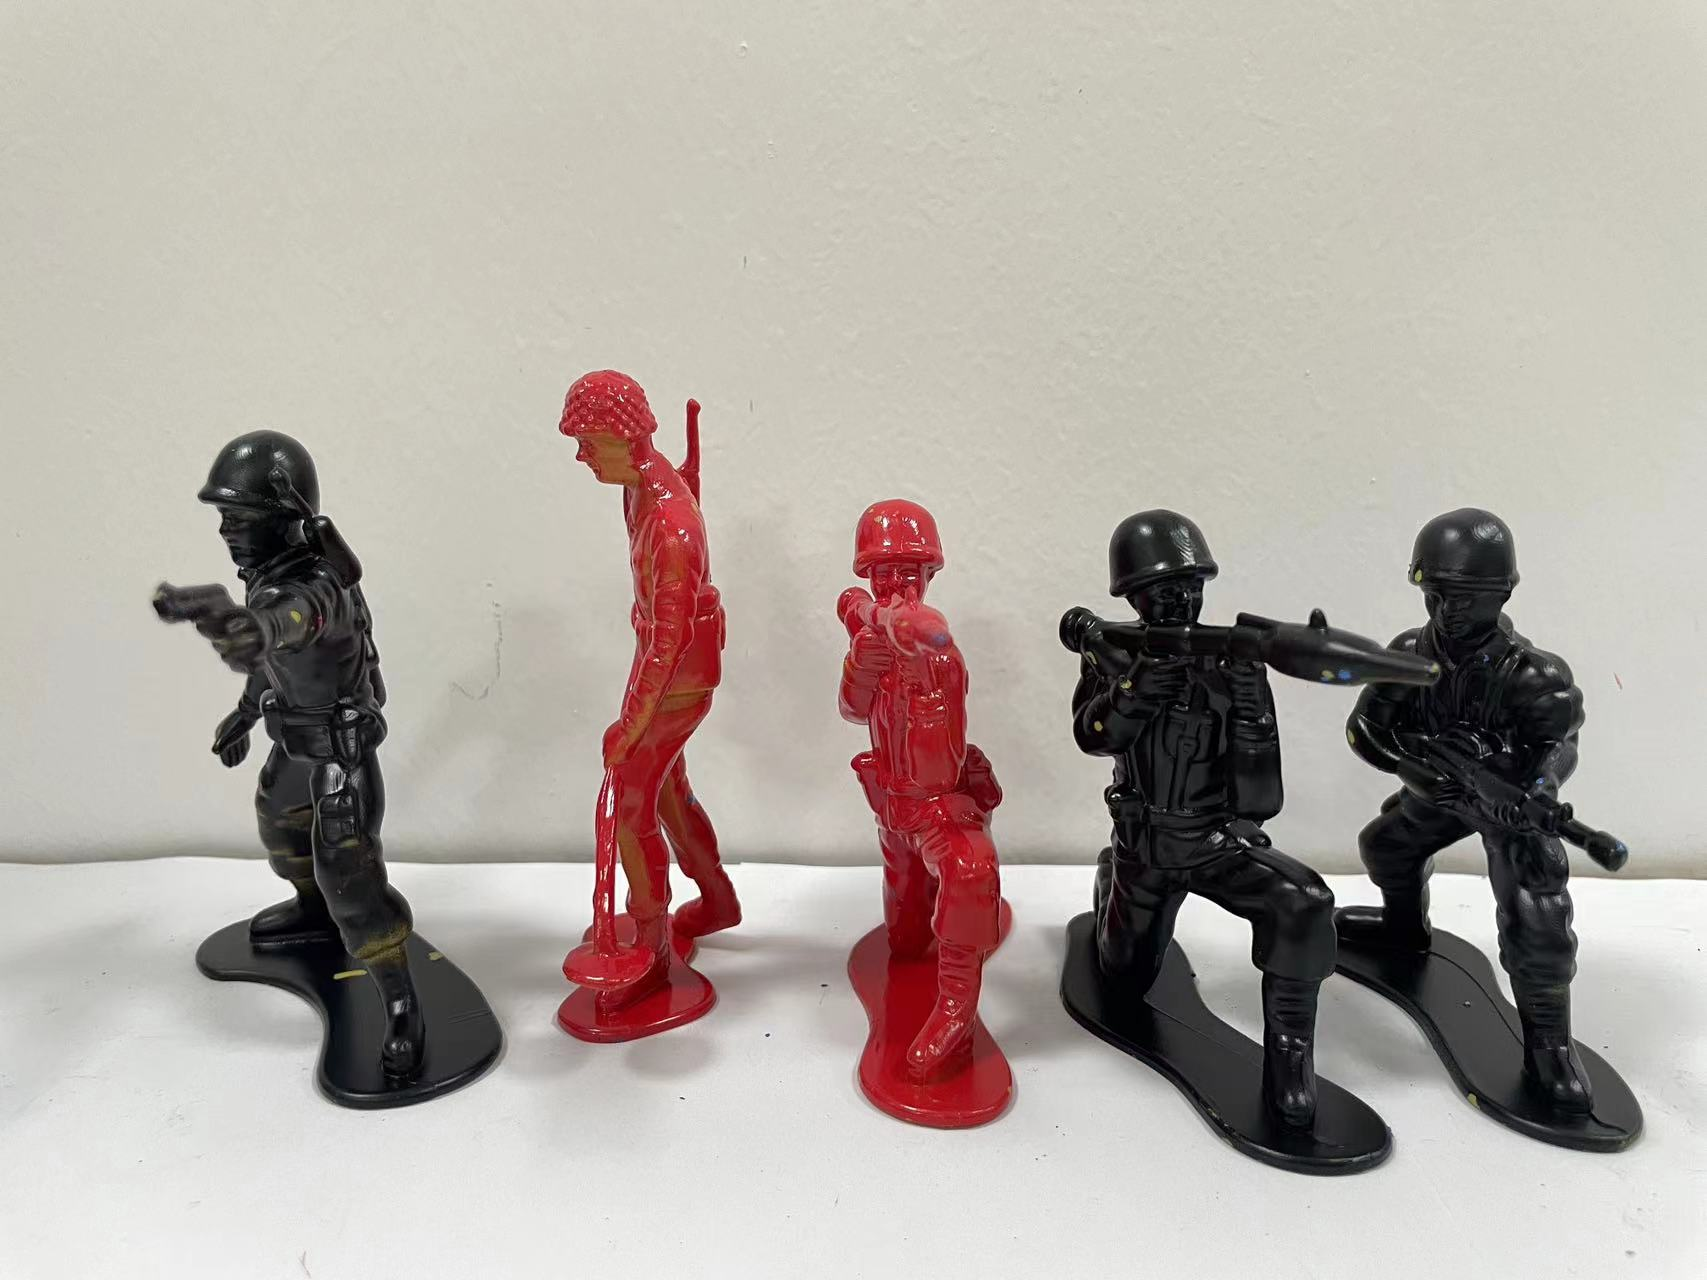black: (87, 406, 517, 1143), (1056, 467, 1398, 1191), (1332, 496, 1673, 1185)
red: (520, 340, 784, 1092), (805, 472, 1052, 1167)
